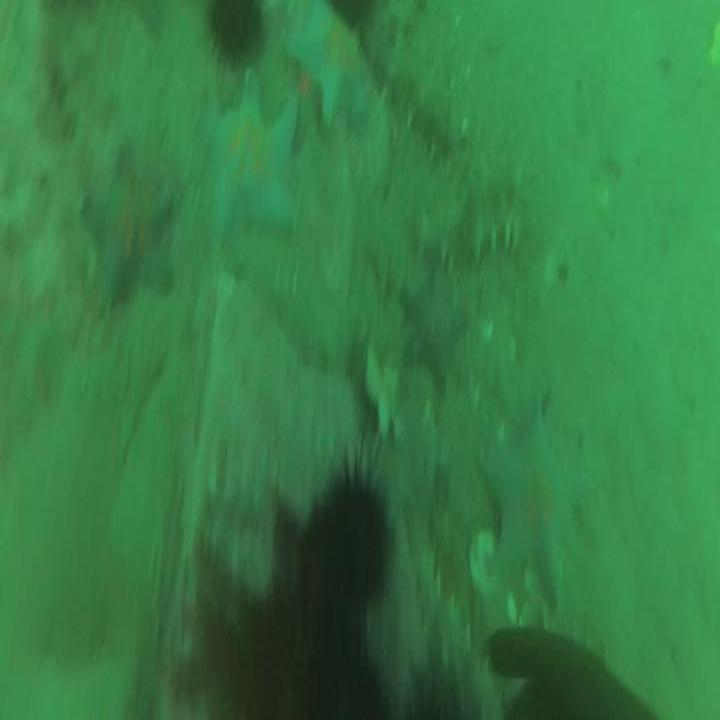echinus: (314, 487, 394, 601), (308, 634, 387, 720), (208, 5, 261, 59)
holothurian: (376, 38, 466, 156), (414, 180, 530, 268)
starfish: (482, 396, 591, 602), (202, 74, 303, 236), (84, 154, 174, 308), (289, 0, 369, 126), (397, 268, 468, 384)
